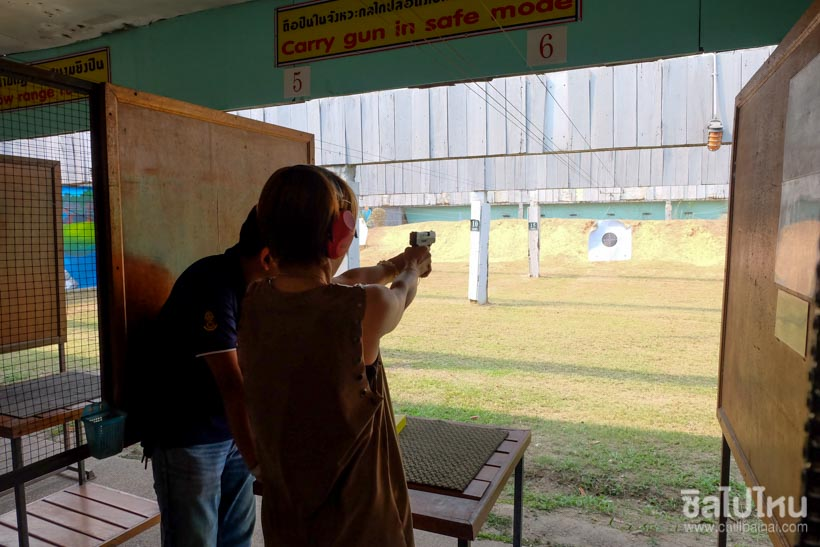gun: (407, 228, 437, 251)
